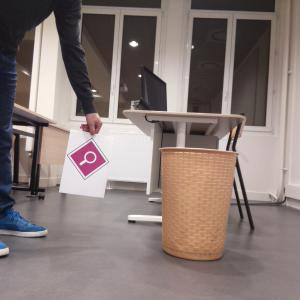medium: (159, 147, 236, 262)
